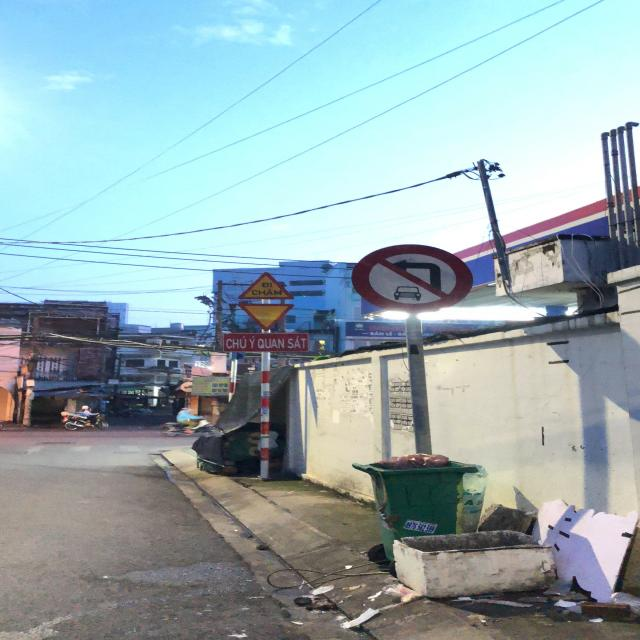Bien bao cam xe o to re trai: (349, 240, 479, 314)
Bien bao di cham: (237, 270, 300, 301)
Bien bao giao nhau voi duong uu tien: (233, 299, 300, 332)
